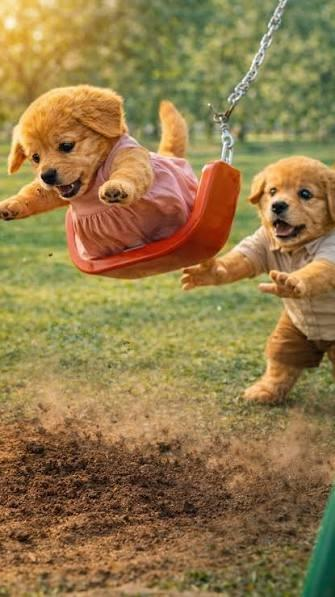puppy-dog: (179, 158, 335, 406), (2, 82, 199, 258)
